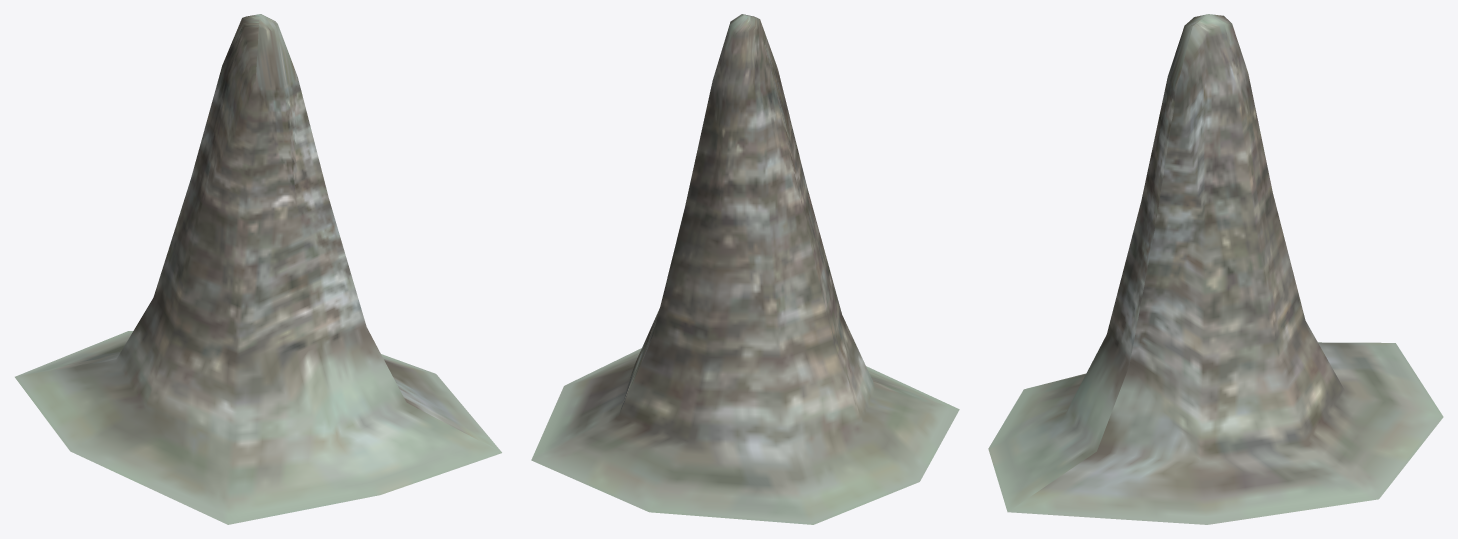
The model's file is TROLLHOLE02_PS-MAINSTALAG42.fbx.
The picture shows the model from 3 angles, left to right: view 1: azimuth 30°, elevation 25°; view 2: azimuth 150°, elevation 25°; view 3: azimuth 270°, elevation 25°; orthographic projection. The views are drawn at different scales.
Parts seen in each view (by area): view 1: TROLLHOLE02_PS-MAINSTALAG42; view 2: TROLLHOLE02_PS-MAINSTALAG42; view 3: TROLLHOLE02_PS-MAINSTALAG42.
Boxes of the visible parts, box(x1,y1,x2,y2) form: TROLLHOLE02_PS-MAINSTALAG42: box(15, 14, 501, 524); TROLLHOLE02_PS-MAINSTALAG42: box(531, 14, 959, 524); TROLLHOLE02_PS-MAINSTALAG42: box(988, 14, 1443, 524).
Bounding box in the file's own units: 26009 × 29168 × 27571.
1 material, 1 textured.
